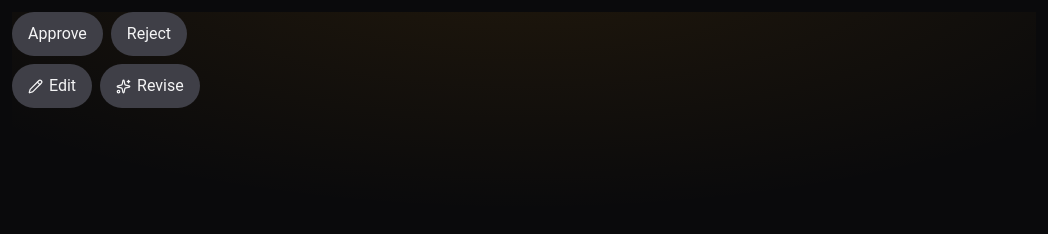
Scenario: DraftControls › prefetches the CLEAN body from the outbound detail into the Edit textarea (not card.body)
The width and height of the screenshot is (1048, 234).
Click the button "Edit" at (52, 86), box [12,64,92,108]
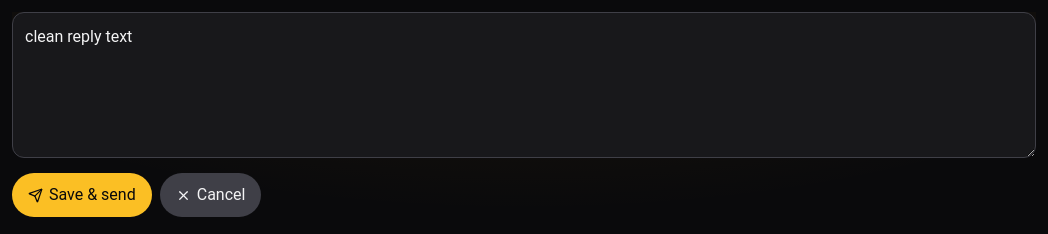
Result: the text box named "Edit reply" holds "clean reply text"
